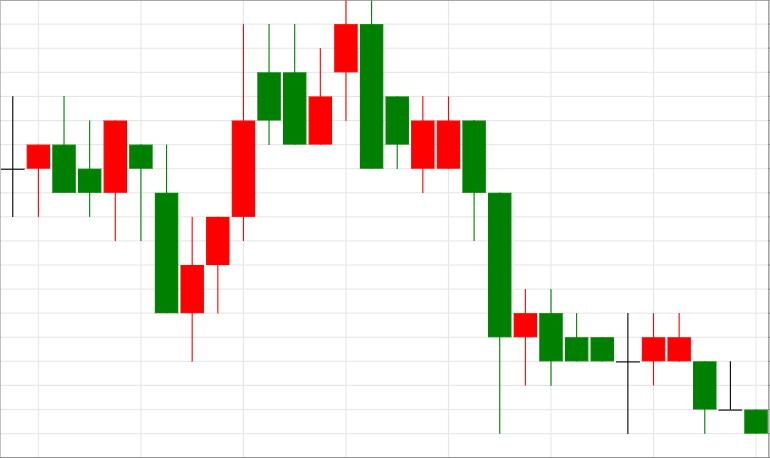bearish_engulfing_fall: (181, 0, 383, 361)
